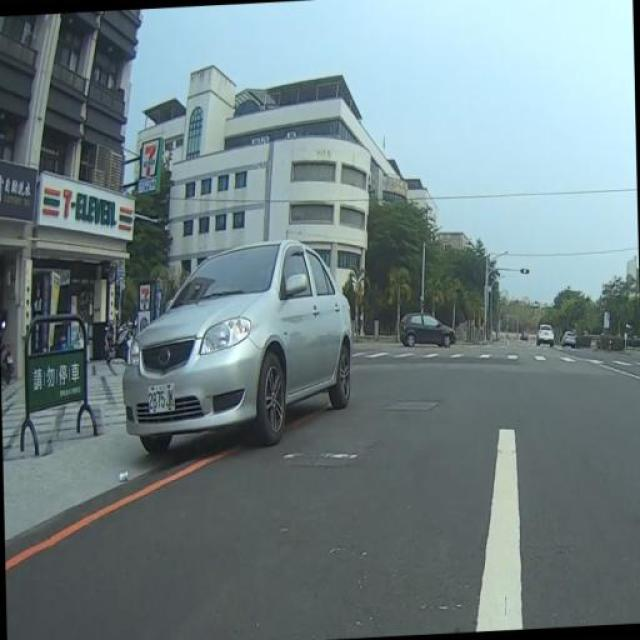Legalparking: (92, 217, 375, 475)
